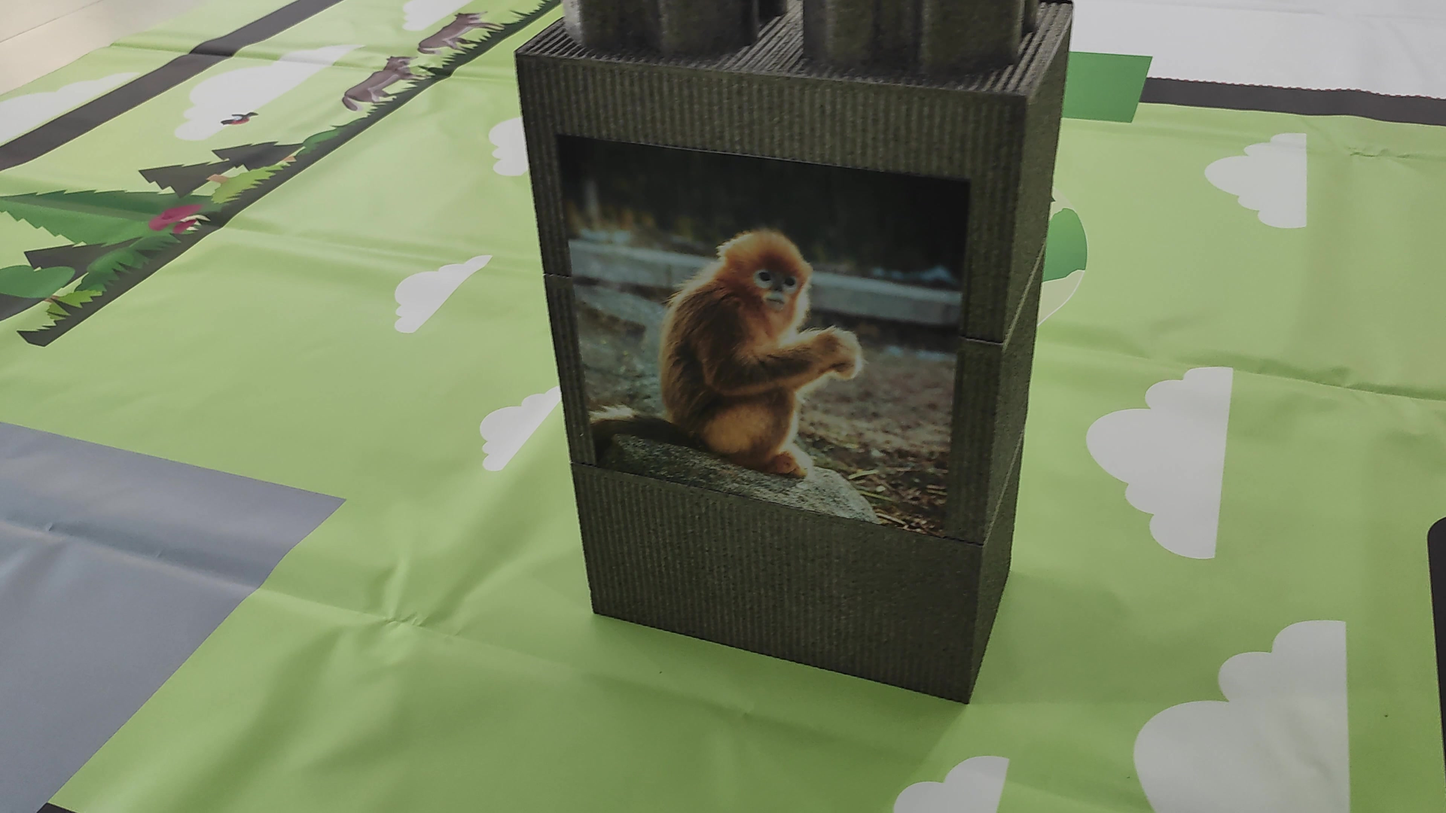monkey: (603, 202, 897, 487)
